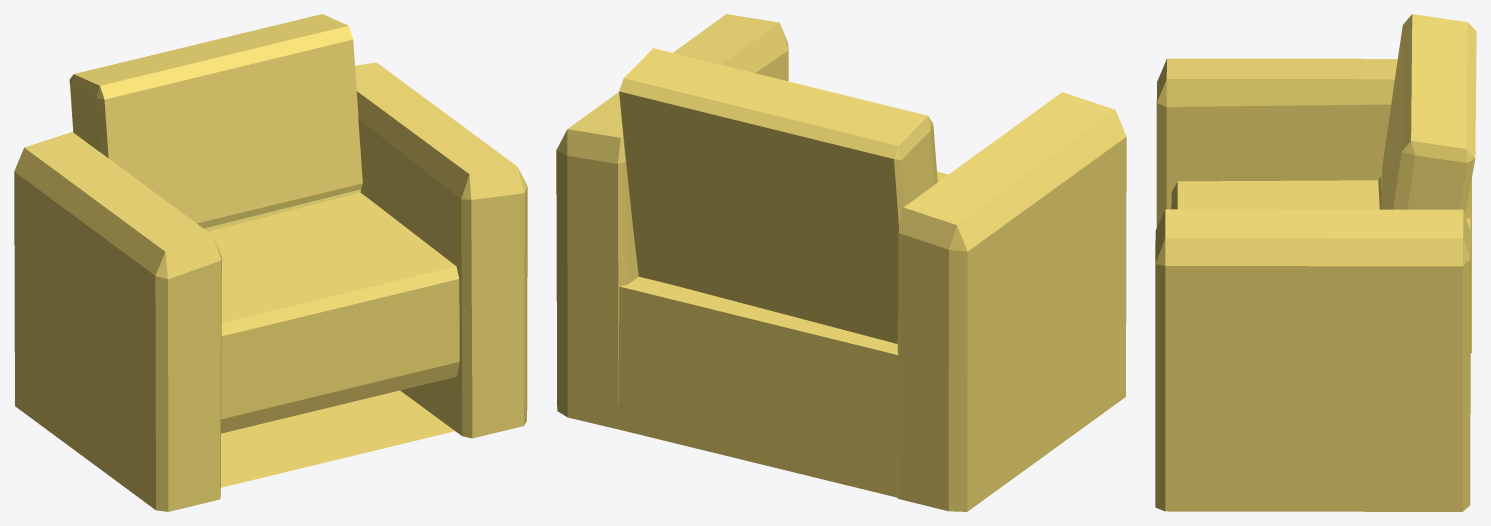
File: Armchair_1.fbx
3 views of the same model, side by side, from view 1: azimuth 30°, elevation 25°; view 2: azimuth 150°, elevation 25°; view 3: azimuth 270°, elevation 25° (orthographic). The views are drawn at different scales.
Visible parts, largest first — view 1: Armchair_1; view 2: Armchair_1; view 3: Armchair_1.
Part boxes in pixels (left/top/right/bottom): Armchair_1: left=14, top=14, right=527, bottom=511; Armchair_1: left=556, top=14, right=1126, bottom=511; Armchair_1: left=1155, top=14, right=1476, bottom=511.
Bounding box in the file's own units: 175 × 125 × 145.
